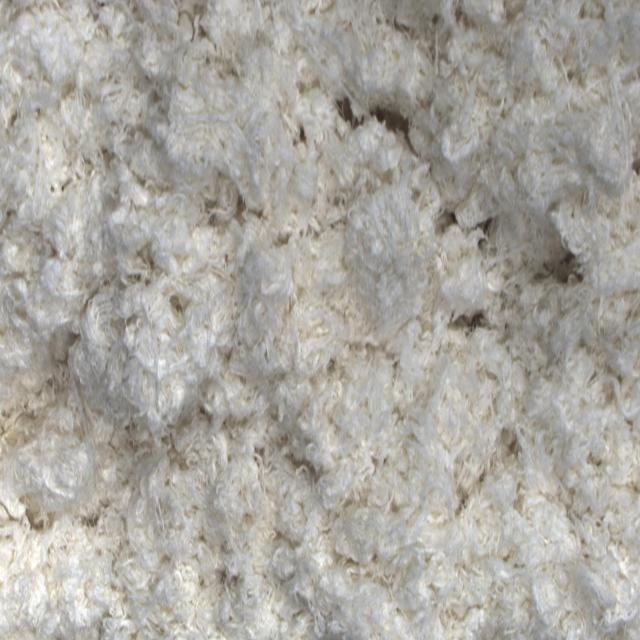dust: (333, 98, 413, 132), (449, 293, 492, 343), (544, 239, 575, 289)
